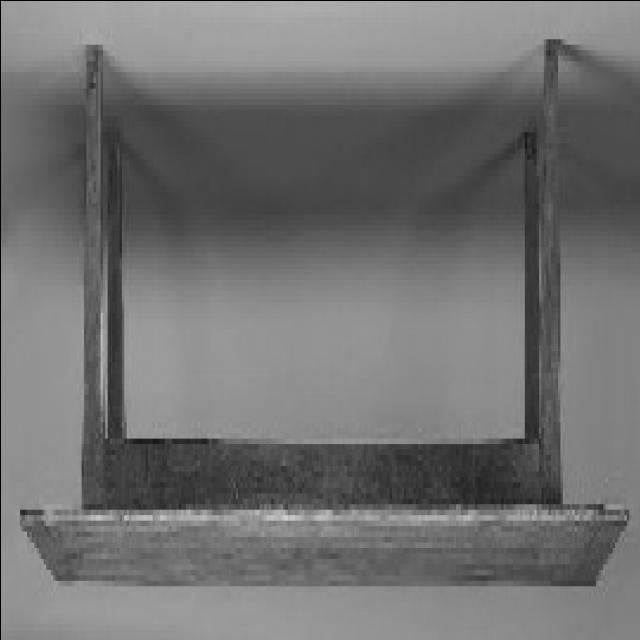table: (20, 38, 628, 582)
